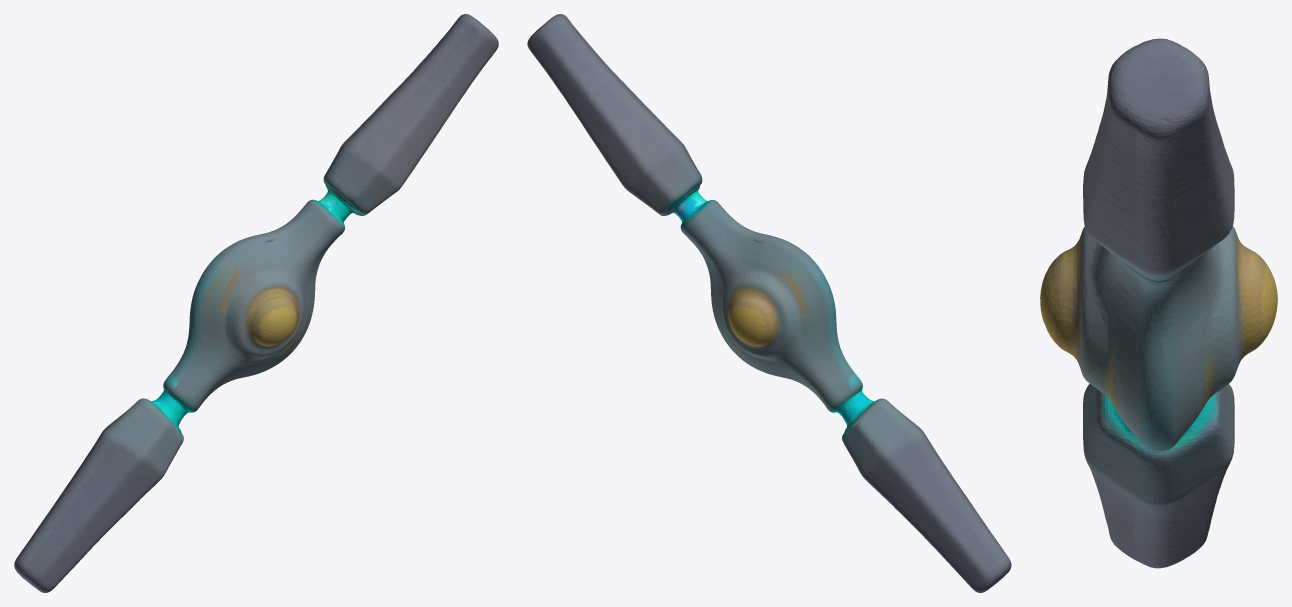
The model's file is delynn_weapon.glb.
3 views of the same model, side by side, from view 1: azimuth 30°, elevation 25°; view 2: azimuth 150°, elevation 25°; view 3: azimuth 270°, elevation 25° (orthographic). The views are drawn at different scales.
Visible parts, largest first — view 1: tmpqjhm9_2k.ply; view 2: tmpqjhm9_2k.ply; view 3: tmpqjhm9_2k.ply.
Part boxes in pixels (x1=…): tmpqjhm9_2k.ply: x1=14, y1=14, x2=498, y2=592; tmpqjhm9_2k.ply: x1=527, y1=14, x2=1011, y2=592; tmpqjhm9_2k.ply: x1=1040, y1=38, x2=1277, y2=568.
Size of the model in its own units: 1.99 by 1.88 by 0.4301.
Materials: 1 (1 with a texture image).
